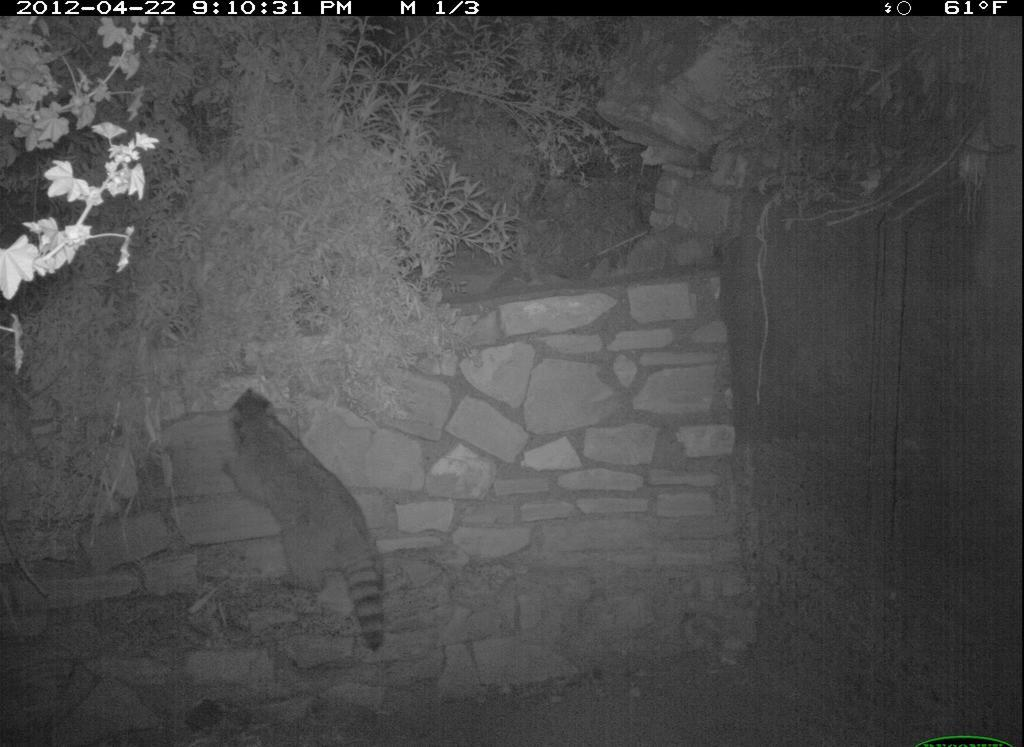raccoon: (210, 369, 402, 660)
